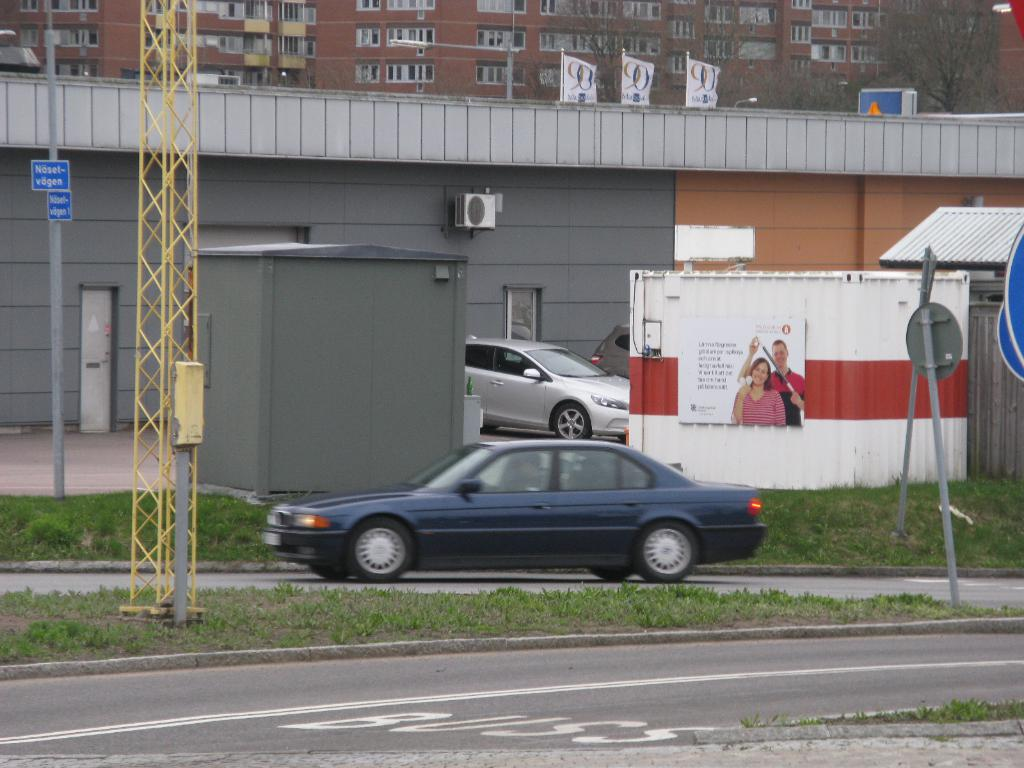Car: (256, 428, 792, 590), (464, 331, 629, 441), (588, 322, 630, 379)
